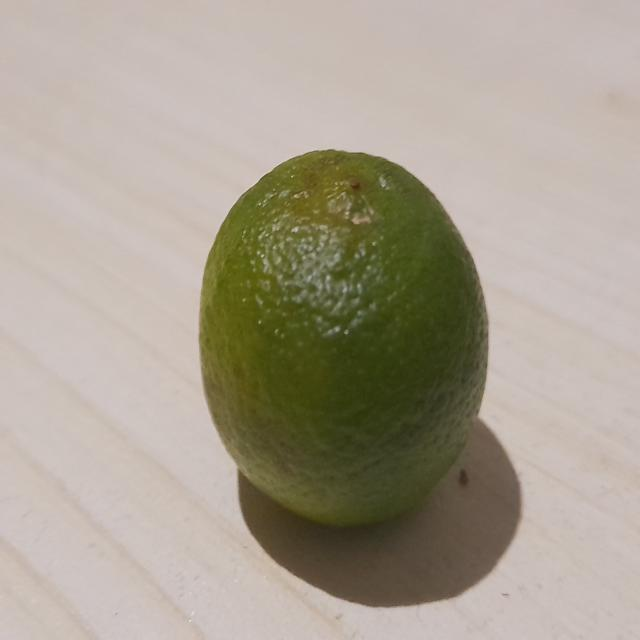heathy: (199, 146, 490, 538)
